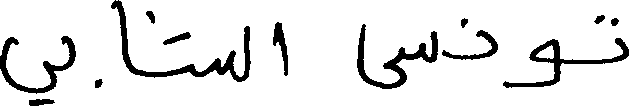ا: (116, 0, 129, 72), (278, 19, 287, 76)
ب: (64, 34, 101, 89)
ت: (595, 13, 627, 64)
س: (356, 22, 437, 89)
ش: (145, 8, 233, 79)
ل: (244, 23, 250, 81)
ن: (458, 16, 496, 60)
و: (502, 37, 558, 88)
ي: (0, 34, 54, 103)
